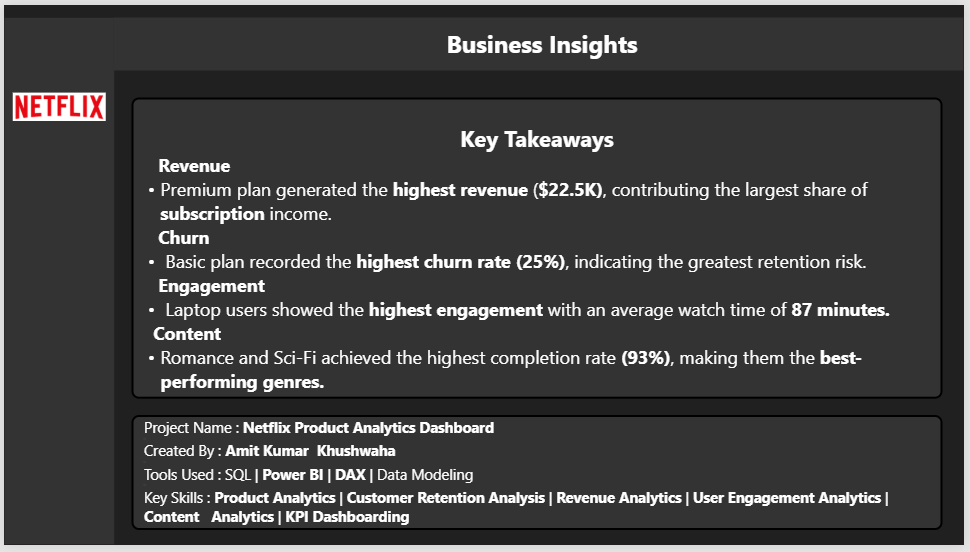

What the dashboard file says about the page in this screenshot:
{"tool":"powerbi","page":{"name":"Business Insights","canvas":[3840,2160],"ordinal":4},"visuals":[{"type":"shape","box":[0,51.9,441.5,2107.9],"z":0},{"type":"image","box":[34.6,337.6,372.2,134.2],"z":1000},{"type":"textbox","box":[441.5,51.9,3397.7,212.1],"z":2000},{"type":"textbox","box":[509.8,369.9,3243.7,1204.5],"z":13001},{"type":"textbox","box":[2932.4,1759.4,821.1,67.7],"z":13002},{"type":"textbox","box":[509.8,1637.6,3243.7,460.2],"z":13003}]}

Visuals, with their boxes in screenshot pixels (x1, y1, x2, y2), scaled from the page's 3840x2160 canvas onto the 970x552 screenshot:
shape: box=[0, 13, 112, 551]
image: box=[9, 86, 103, 121]
textbox: box=[112, 13, 969, 67]
textbox: box=[129, 95, 948, 402]
textbox: box=[741, 450, 948, 467]
textbox: box=[129, 418, 948, 536]
